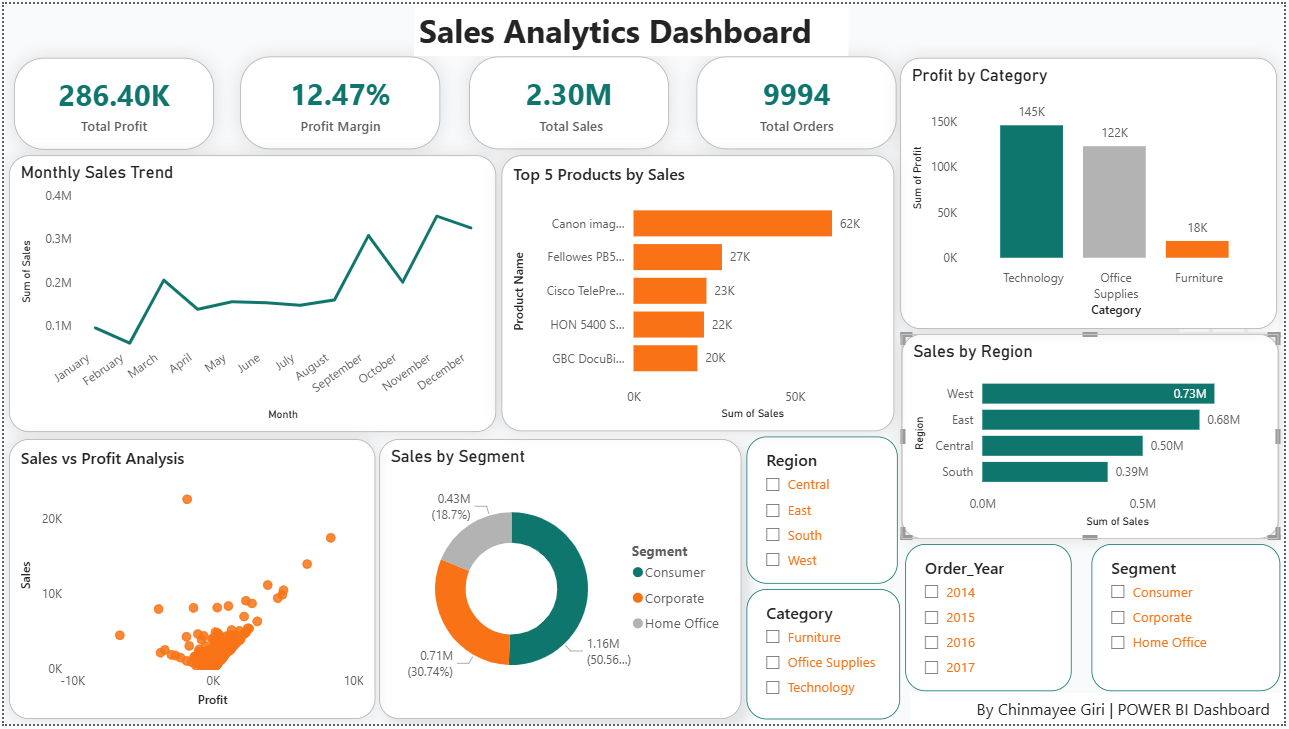

What the dashboard file says about the page in this screenshot:
{"tool":"powerbi","page":{"name":"Page 1","canvas":[1280,720],"ordinal":0},"visuals":[{"type":"card","fields":{"Values":["Sum(Sample - Superstore(NEW).Profit)"]},"box":[10,53.4,200,92],"z":0},{"type":"card","fields":{"Values":["Sum(Sample - Superstore(NEW).Sales)"]},"box":[464.5,53.1,200.3,92.9],"z":1000},{"type":"card","fields":{"Values":["CountNonNull(Sample - Superstore(NEW).Order_ID)"]},"box":[692.5,53.1,200.3,92.9],"z":2000},{"type":"card","fields":{"Values":["Sample - Superstore(NEW).Profit Margin"]},"box":[236.5,53.1,200.3,92.9],"z":3000},{"type":"lineChart","title":"Monthly Sales Trend","fields":{"Category":["Sample - Superstore(NEW).Order_Date.Variation.Date Hierarchy.Month"],"Y":["Sum(Sample - Superstore(NEW).Sales)"]},"box":[5,151.2,487.5,277],"z":4000},{"type":"clusteredBarChart","title":"Sales by Region","fields":{"Category":["Sample - Superstore(NEW).Region"],"Y":["Sum(Sample - Superstore(NEW).Sales)"]},"box":[897.5,330,377.5,205],"z":5000},{"type":"columnChart","title":"Profit by Category","fields":{"Category":["Sample - Superstore(NEW).Category"],"Y":["Sum(Sample - Superstore(NEW).Profit)"]},"box":[896.4,54.3,377,271],"z":6000},{"type":"donutChart","title":"Sales by Segment","fields":{"Category":["Sample - Superstore(NEW).Segment"],"Y":["Sum(Sample - Superstore(NEW).Sales)"]},"box":[375,435,362,280],"z":7000},{"type":"slicer","fields":{"Values":["Sample - Superstore(NEW).Region"]},"box":[742.5,432.5,151.2,147.5],"z":8000},{"type":"slicer","fields":{"Values":["Sample - Superstore(NEW).Category"]},"box":[742.5,585,153.8,130],"z":9000},{"type":"slicer","fields":{"Values":["Sample - Superstore(NEW).Segment"]},"box":[1087.5,540,188.8,147.5],"z":10000},{"type":"slicer","fields":{"Values":["Sample - Superstore(NEW).Order_Year"]},"box":[901.2,540,166.2,147.5],"z":11000},{"type":"textbox","box":[410.2,0,434.3,52],"z":12000},{"type":"scatterChart","title":"Sales vs Profit Analysis","fields":{"X":["Sample - Superstore(NEW).Profit"],"Y":["Sample - Superstore(NEW).Sales"]},"box":[5,435,366.2,280],"z":13000},{"type":"clusteredBarChart","title":"Top 5 Products by Sales","fields":{"Category":["Sample - Superstore(NEW).Product_Name"],"Y":["Sum(Sample - Superstore(NEW).Sales)"]},"box":[497.5,151.2,392.5,276.2],"z":14000},{"type":"textbox","box":[906,688.9,374,31.4],"z":15000}]}

Visuals, with their boxes in screenshot pixels (x1, y1, x2, y2), scaled from the page's 1280x720 canvas onto the 1289x729 screenshot:
card - Sum(Sample - Superstore(NEW).Profit): {"left": 10, "top": 54, "right": 211, "bottom": 147}
card - Sum(Sample - Superstore(NEW).Sales): {"left": 468, "top": 54, "right": 669, "bottom": 148}
card - CountNonNull(Sample - Superstore(NEW).Order_ID): {"left": 697, "top": 54, "right": 899, "bottom": 148}
card - Sample - Superstore(NEW).Profit Margin: {"left": 238, "top": 54, "right": 440, "bottom": 148}
"Monthly Sales Trend" lineChart: {"left": 5, "top": 153, "right": 496, "bottom": 434}
"Sales by Region" clusteredBarChart: {"left": 904, "top": 334, "right": 1284, "bottom": 542}
"Profit by Category" columnChart: {"left": 903, "top": 55, "right": 1282, "bottom": 329}
"Sales by Segment" donutChart: {"left": 378, "top": 440, "right": 742, "bottom": 724}
slicer - Sample - Superstore(NEW).Region: {"left": 748, "top": 438, "right": 900, "bottom": 587}
slicer - Sample - Superstore(NEW).Category: {"left": 748, "top": 592, "right": 903, "bottom": 724}
slicer - Sample - Superstore(NEW).Segment: {"left": 1095, "top": 547, "right": 1285, "bottom": 696}
slicer - Sample - Superstore(NEW).Order_Year: {"left": 908, "top": 547, "right": 1075, "bottom": 696}
textbox: {"left": 413, "top": 0, "right": 850, "bottom": 53}
"Sales vs Profit Analysis" scatterChart: {"left": 5, "top": 440, "right": 374, "bottom": 724}
"Top 5 Products by Sales" clusteredBarChart: {"left": 501, "top": 153, "right": 896, "bottom": 433}
textbox: {"left": 912, "top": 698, "right": 1288, "bottom": 728}
